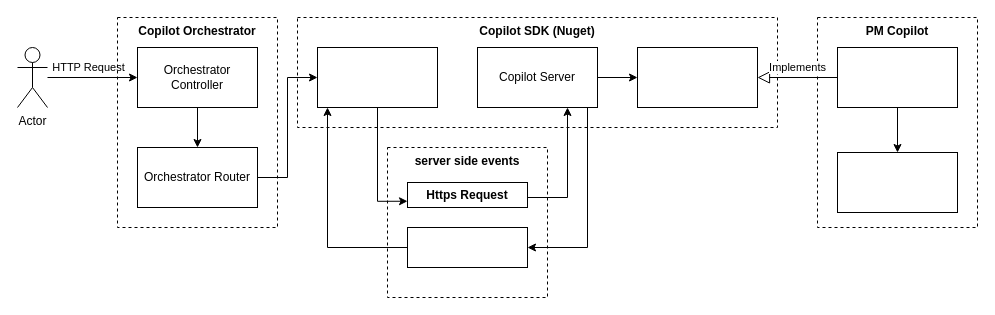
Image size: 995x315. Some labels were removed from this diagram. The shapes that lost their labels are listed below. From the top down, each one's centre as x and y in pixels, then its label:
At (x=377, y=77): "Copilot Client (Proxy)".
At (x=697, y=77): "CopilotService Interface".
At (x=897, y=77): "PM Copilot Service".
At (x=897, y=182): "PM Copilot Logic".
At (x=467, y=247): "Response event-stream".
